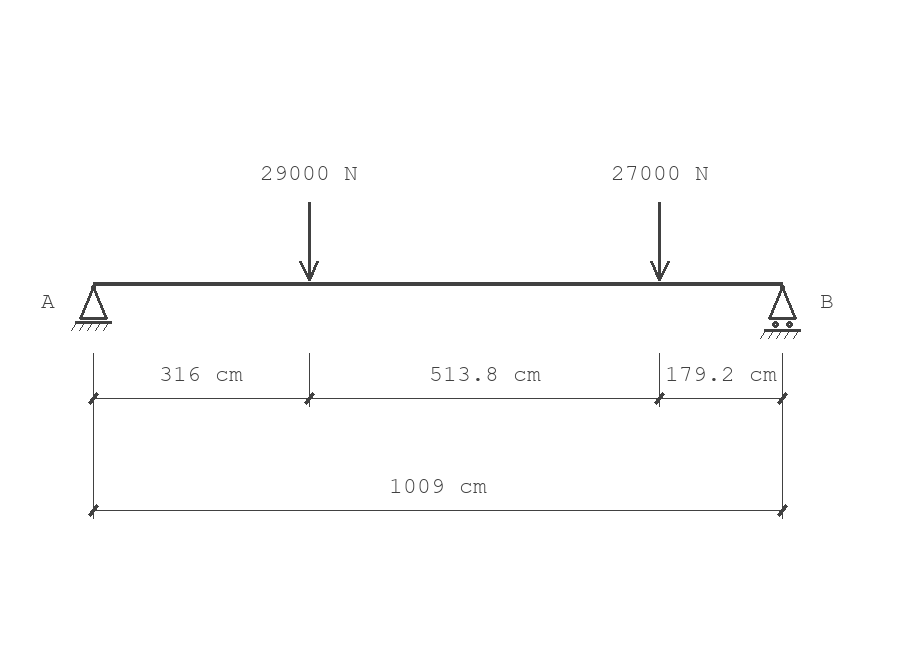pin_support: (71, 285, 112, 331)
point_load: (299, 202, 319, 281), (650, 202, 670, 281)
roller_support: (760, 285, 801, 339)
